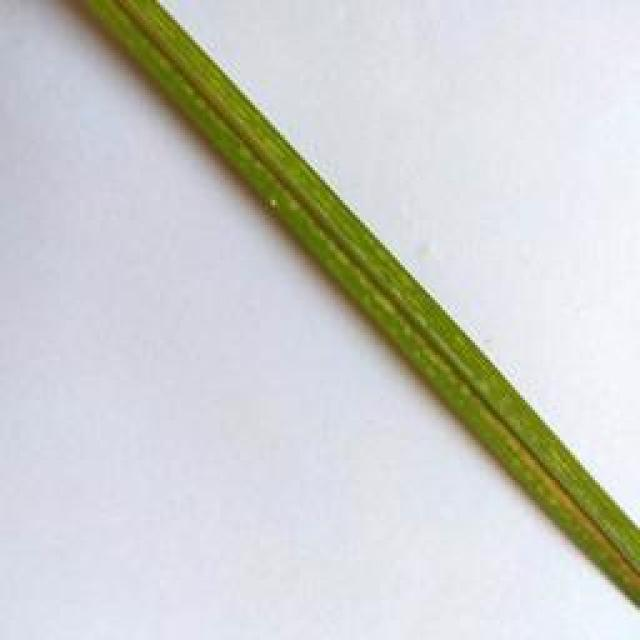Bacterial_Blight: (485, 410, 640, 588)
